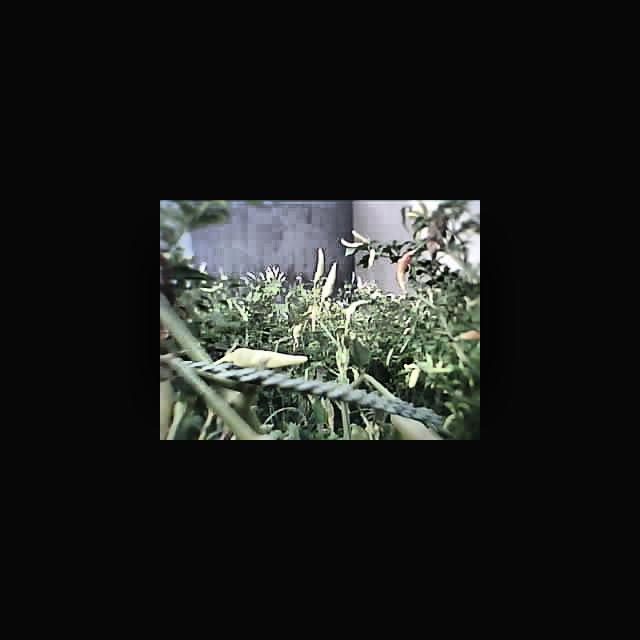Cabai: (392, 249, 427, 292), (452, 328, 480, 343)
